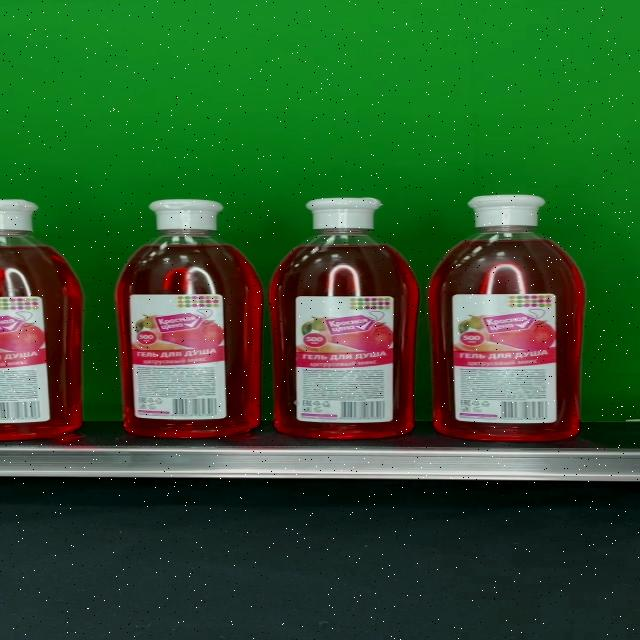Bottle: (429, 194, 584, 440), (269, 196, 419, 438), (115, 199, 262, 438)
Cap: (466, 194, 546, 227), (304, 197, 384, 229), (147, 199, 221, 231)
